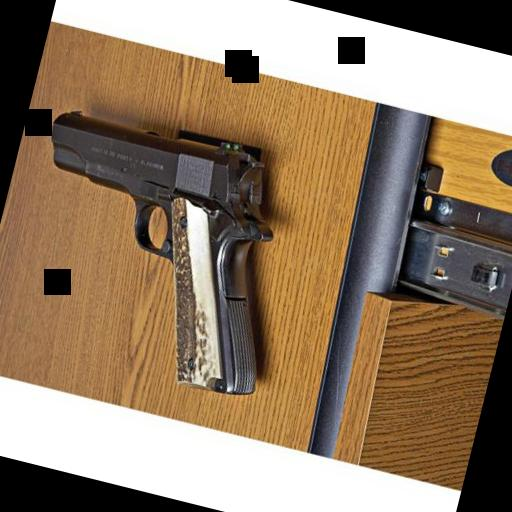Handgun: (0, 90, 316, 404)
